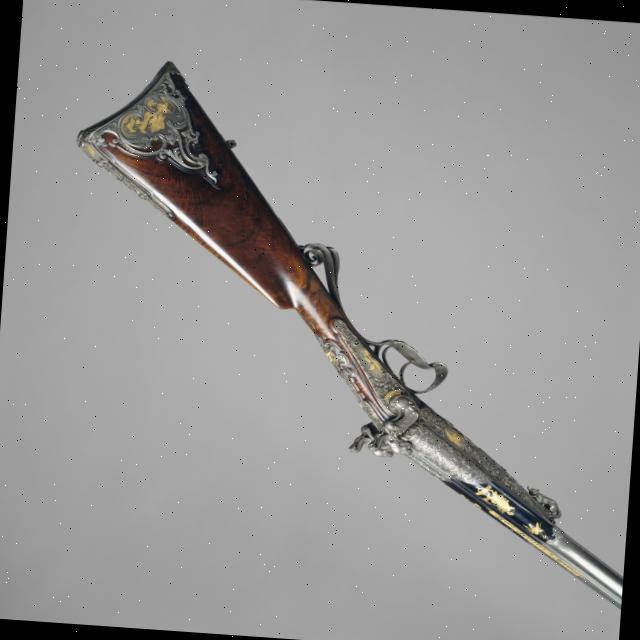Shotgun: (45, 51, 640, 616)
